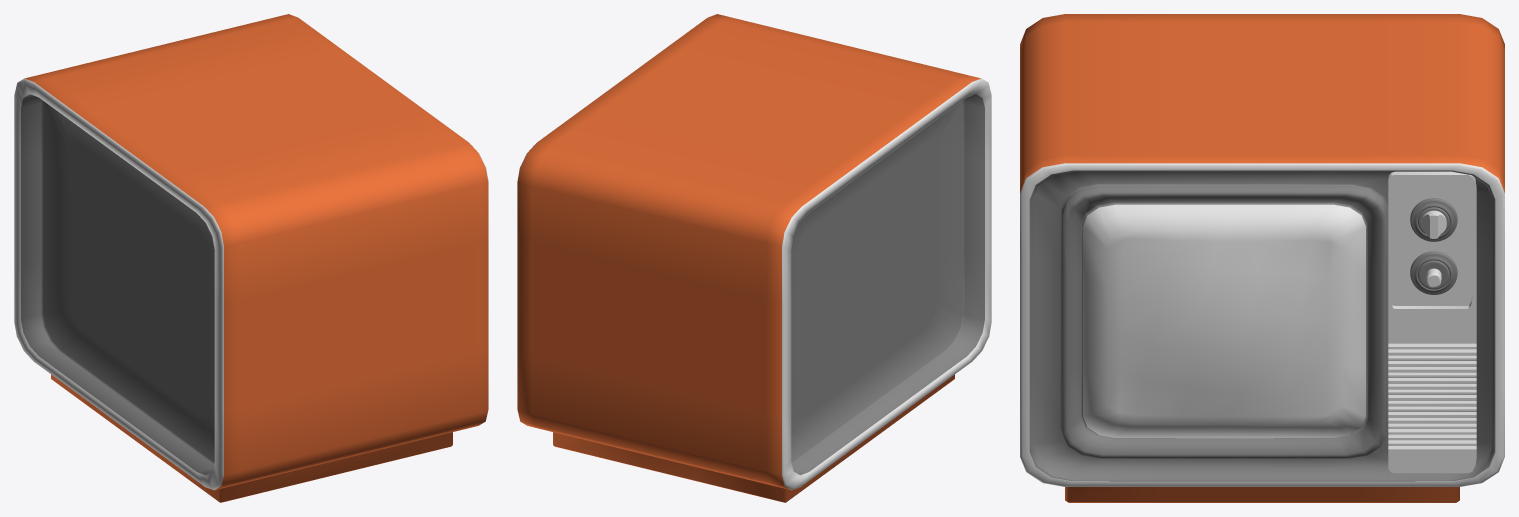
3 renders of one model, left to right at view 1: azimuth 30°, elevation 25°; view 2: azimuth 150°, elevation 25°; view 3: azimuth 270°, elevation 25°, orthographic. The views are drawn at different scales.
Visible parts, largest first — view 1: Cube; view 2: Cube; view 3: Cube, Cube.001, Circle.002, Circle, Circle.001.
Part boxes in pixels (<box>): Cube: <box>14,14,488,502</box>; Cube: <box>517,14,991,502</box>; Cube: <box>1020,14,1504,502</box>; Cube.001: <box>1388,171,1476,473</box>; Circle.002: <box>1410,251,1457,294</box>; Circle: <box>1410,198,1457,241</box>; Circle.001: <box>1421,210,1446,238</box>.
Bounding box in the file's own units: 211 × 216 × 271.
